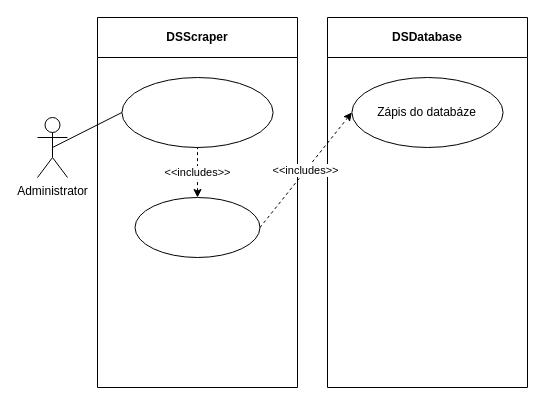
This 545x405 diagram has some shape labels left out. Here are the shapes that lost their labels. From the top down, the centre of each, then its label:
point 197,112: Zapnutí scraperu na poslední data
point 197,227: Načtení dat z Čsts api:
